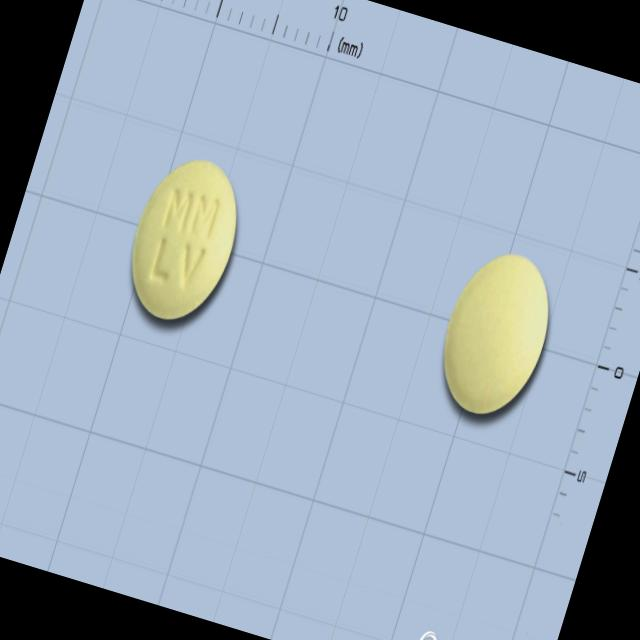Levofuracin: (112, 144, 255, 334)
